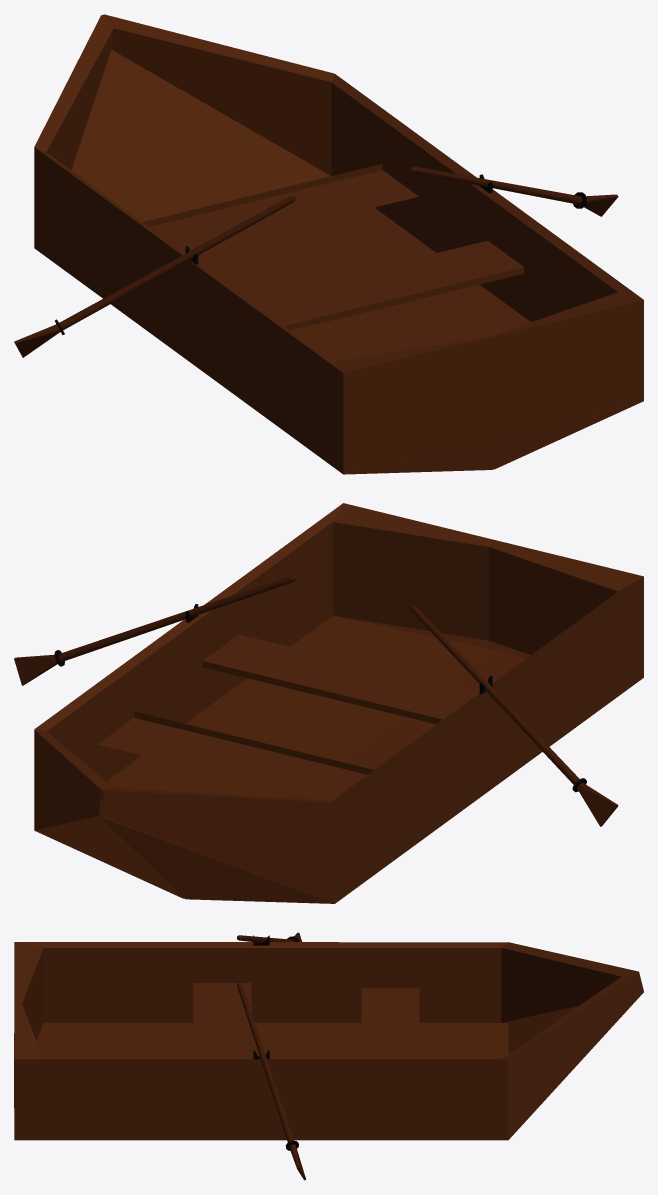
Rendered from Boat2.fbx.
3 views of the same model, one above another, from view 1: azimuth 30°, elevation 25°; view 2: azimuth 150°, elevation 25°; view 3: azimuth 270°, elevation 25° (orthographic). The views are drawn at different scales.
Parts seen in each view (by area): view 1: Cube, Cylinder; view 2: Cube, Cylinder; view 3: Cube, Cylinder.
Boxes of the visible parts, <box> form: Cube: <box>34,14,643,474</box>; Cylinder: <box>14,166,618,357</box>; Cube: <box>34,503,643,903</box>; Cylinder: <box>14,575,618,826</box>; Cube: <box>14,935,643,1140</box>; Cylinder: <box>237,932,305,1180</box>.
Bounding box in the file's own units: 935 × 274 × 1058.
